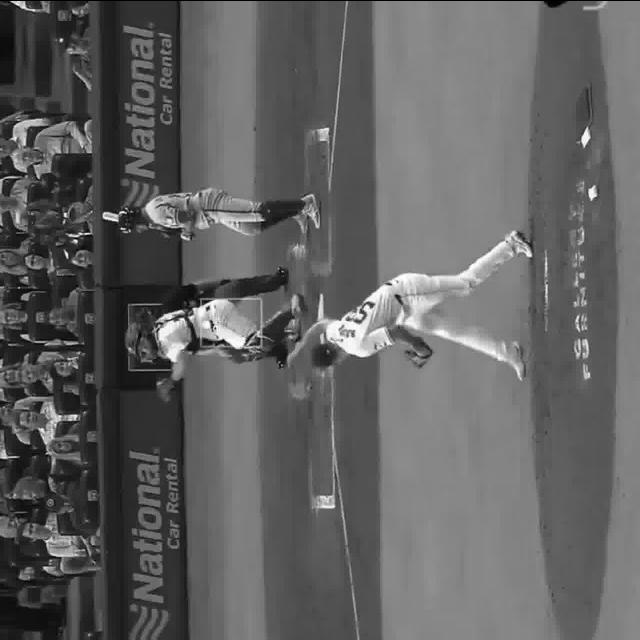base: (317, 293, 326, 321)
baseball_glove: (406, 342, 432, 368), (158, 376, 175, 402)
bat: (96, 208, 196, 241)
shoe: (509, 339, 527, 380), (508, 232, 536, 256), (305, 192, 321, 226), (289, 291, 305, 317), (296, 207, 310, 233), (288, 316, 299, 342)
